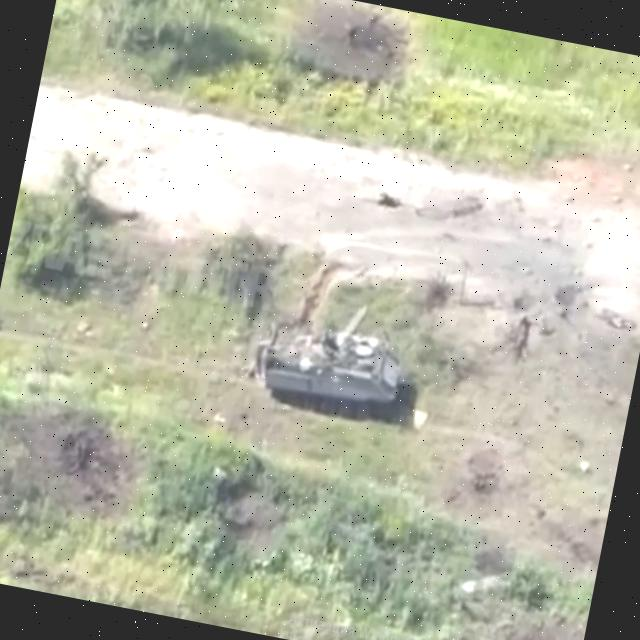APC: (248, 310, 422, 438)
